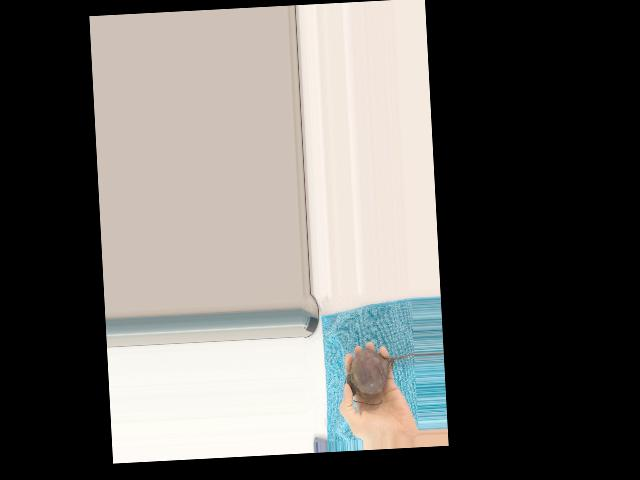beet: (342, 346, 417, 406)
